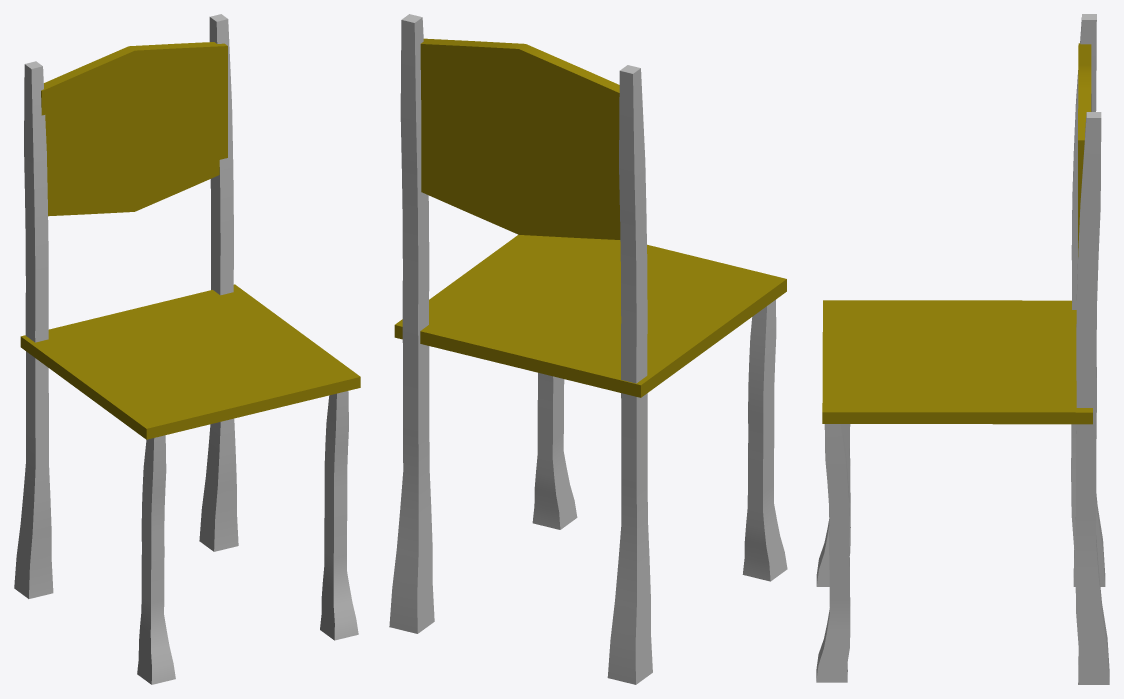
File: cadeira.FBX
3 renders of one model, left to right at view 1: azimuth 30°, elevation 25°; view 2: azimuth 150°, elevation 25°; view 3: azimuth 270°, elevation 25°, orthographic. The views are drawn at different scales.
Visible parts, largest first — view 1: Box008; view 2: Box008; view 3: Box008.
Boxes of the visible parts, left/top/right/bottom form: Box008: left=14, top=14, right=360, bottom=684; Box008: left=389, top=14, right=787, bottom=684; Box008: left=816, top=14, right=1109, bottom=684.
Size of the model in its own units: 26.01 by 60.72 by 28.65.
